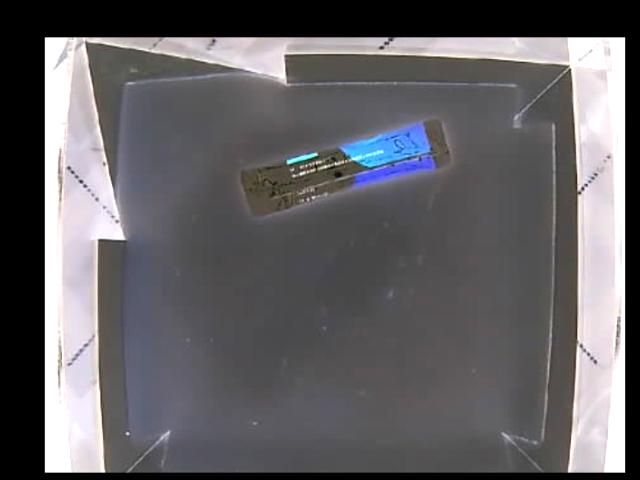Medicine: (237, 118, 451, 216)
